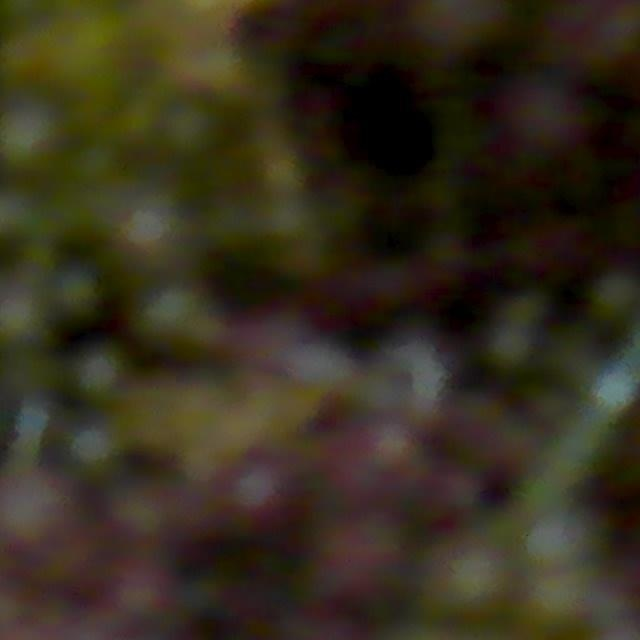SeaGrape: (302, 519, 406, 615), (0, 478, 92, 586), (532, 0, 640, 82), (209, 445, 302, 532), (494, 79, 585, 165), (118, 495, 201, 578), (0, 95, 68, 185), (113, 565, 184, 640)
